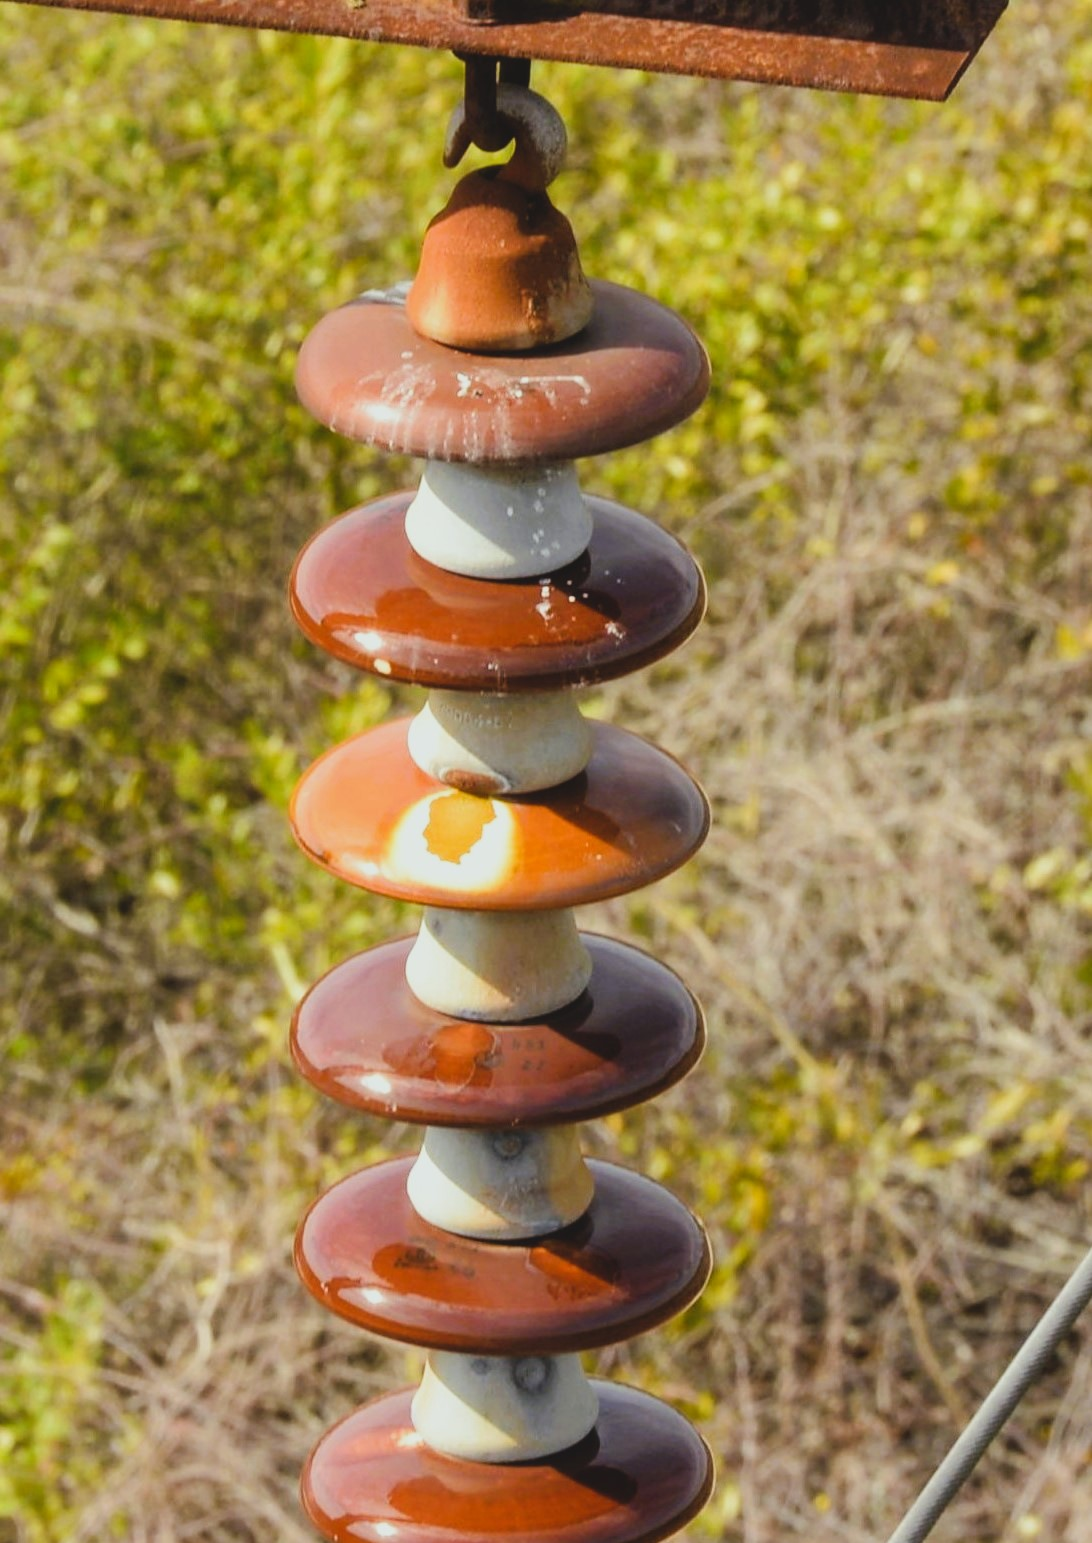Insulator flashover: (277, 698, 726, 919)
